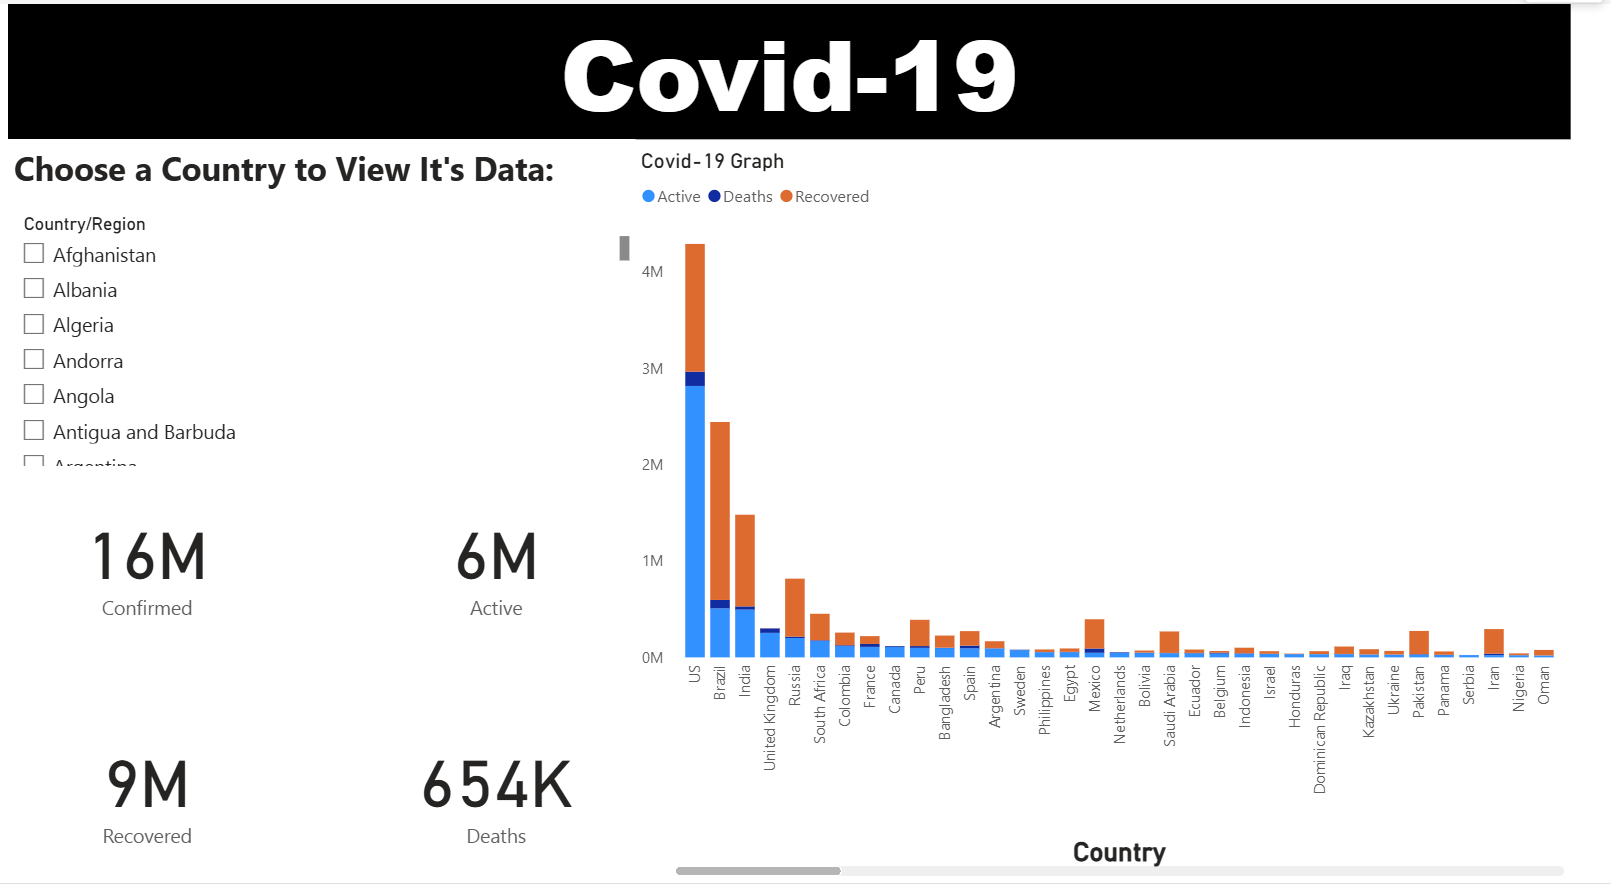

This screenshot's page, from the dashboard's own definition file:
{"tool":"powerbi","page":{"name":"Page 1","canvas":[1280,720],"ordinal":0},"visuals":[{"type":"lineStackedColumnComboChart","title":"Covid-19 Graph","fields":{"Category":["country_wise_latest.Country/Region"],"Y":["Sum(country_wise_latest.Active)","Sum(country_wise_latest.Deaths)","Sum(country_wise_latest.Recovered)"]},"box":[514,118,766,601.6],"z":0},{"type":"shape","box":[0,0,1280,110.8],"z":2000},{"type":"slicer","fields":{"Values":["country_wise_latest.Country/Region"]},"box":[0,167.2,514,219.9],"z":2001},{"type":"card","fields":{"Values":["Sum(country_wise_latest.Deaths)"]},"box":[286,564.9,227.9,154.6],"z":2003},{"type":"card","fields":{"Values":["Sum(country_wise_latest.Active)"]},"box":[286,378.1,227.9,154.6],"z":2004},{"type":"card","fields":{"Values":["Sum(country_wise_latest.Recovered)"]},"box":[0.2,565.5,227.9,154.6],"z":2005},{"type":"card","fields":{"Values":["Sum(country_wise_latest.Confirmed)"]},"box":[0,378.1,227.9,154.6],"z":2006},{"type":"textbox","box":[0,110.8,514,56.3],"z":2007}]}

Visuals, with their boxes in screenshot pixels (x1, y1, x2, y2), scaled from the page's 1280x720 canvas onto the 1611x884 screenshot:
"Covid-19 Graph" lineStackedColumnComboChart: (x1=647, y1=145, x2=1610, y2=883)
shape: (x1=0, y1=0, x2=1610, y2=136)
slicer - country_wise_latest.Country/Region: (x1=0, y1=205, x2=647, y2=475)
card - Sum(country_wise_latest.Deaths): (x1=360, y1=694, x2=647, y2=883)
card - Sum(country_wise_latest.Active): (x1=360, y1=464, x2=647, y2=654)
card - Sum(country_wise_latest.Recovered): (x1=0, y1=694, x2=287, y2=883)
card - Sum(country_wise_latest.Confirmed): (x1=0, y1=464, x2=287, y2=654)
textbox: (x1=0, y1=136, x2=647, y2=205)
